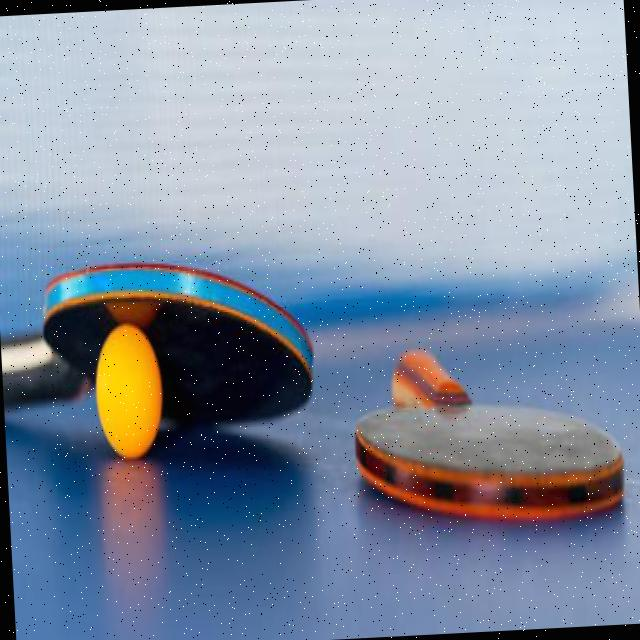ping-pong-ball: (96, 320, 166, 460)
